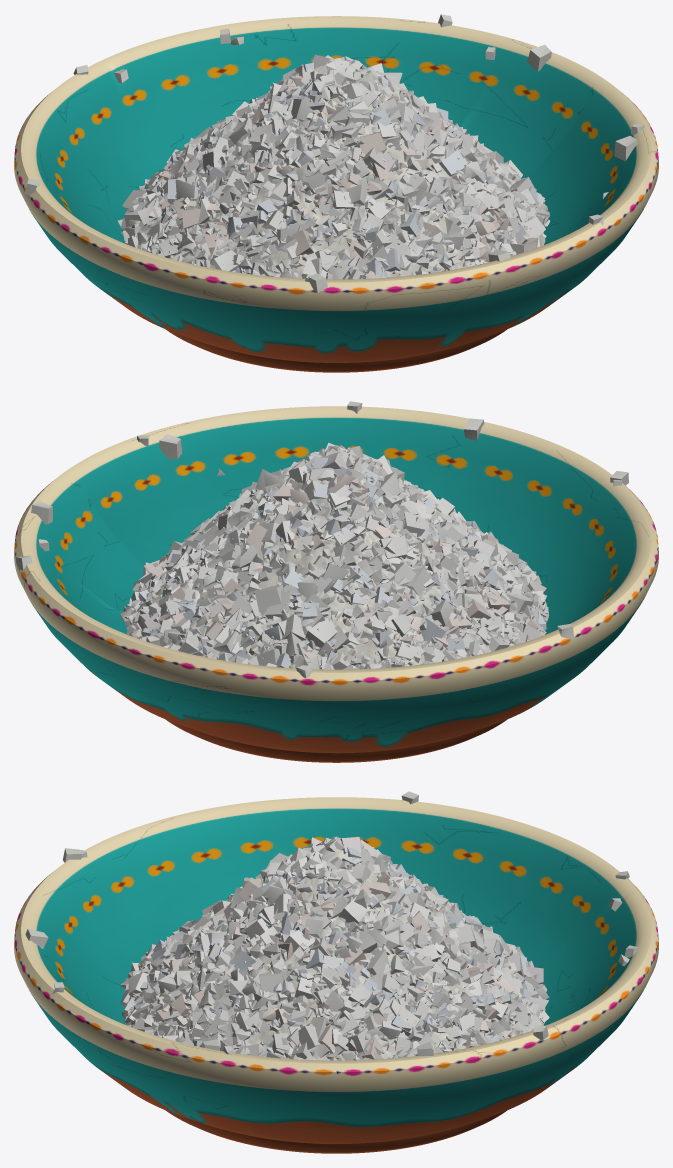
Rendered from salt_dish.glb.
The picture shows the model from 3 angles, top to bottom: view 1: azimuth 30°, elevation 25°; view 2: azimuth 150°, elevation 25°; view 3: azimuth 270°, elevation 25°; orthographic projection.
Parts seen in each view (by area): view 1: salt_dish; view 2: salt_dish; view 3: salt_dish.
Part boxes in pixels (x1,y1,x2,y2): salt_dish: (14,14,658,372); salt_dish: (14,401,658,762); salt_dish: (14,791,658,1153).
Bounding box in the file's own units: 0.0822 × 0.0329 × 0.0822.
Materials: 3 (2 with a texture image).
